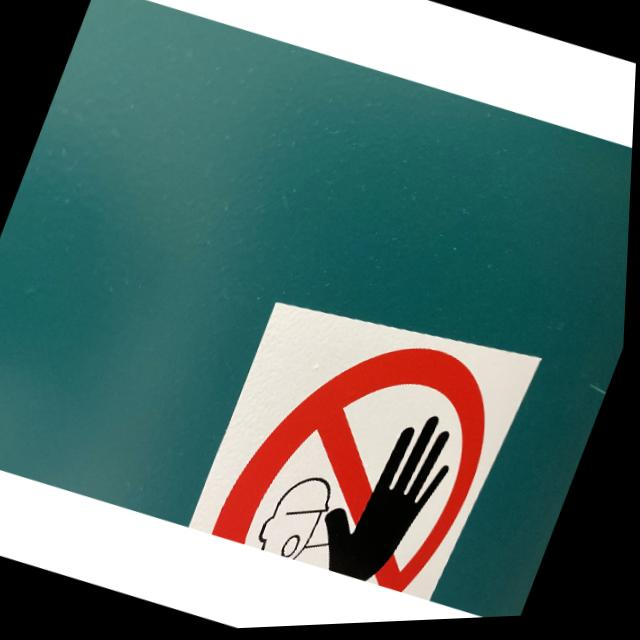No access for unauthorized persons: (212, 302, 520, 612)
